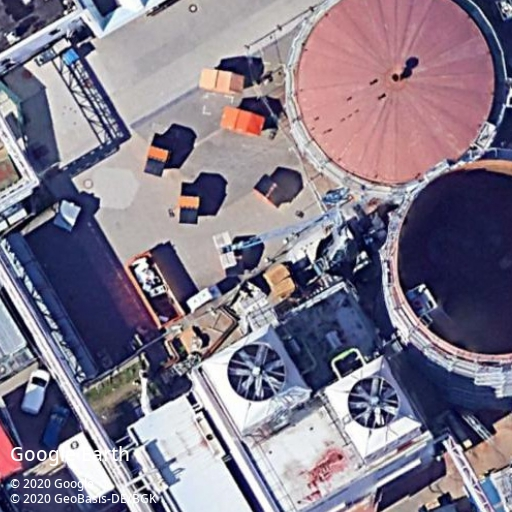Vent: (226, 342, 287, 403), (346, 374, 402, 430)
